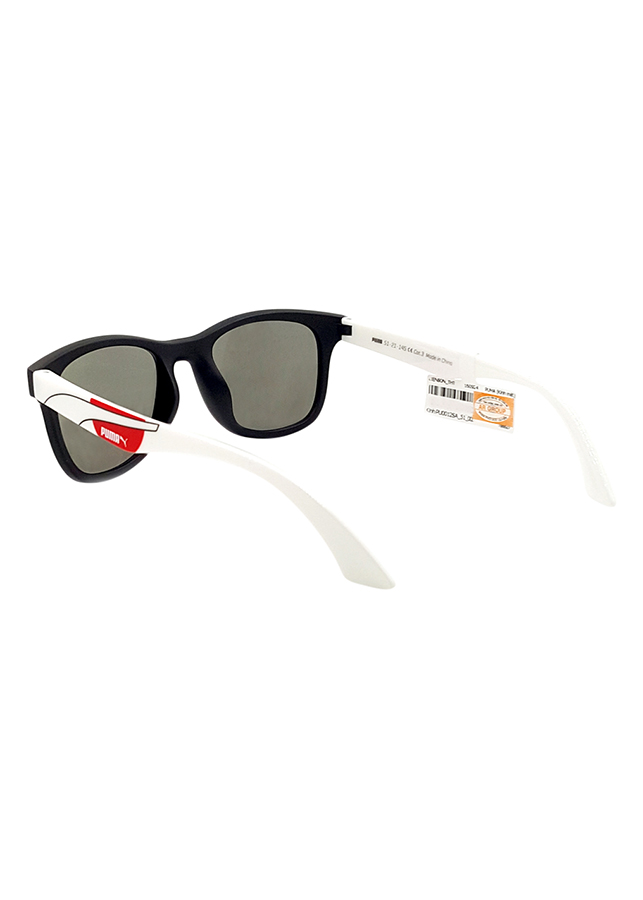Puma: (94, 423, 135, 449)
